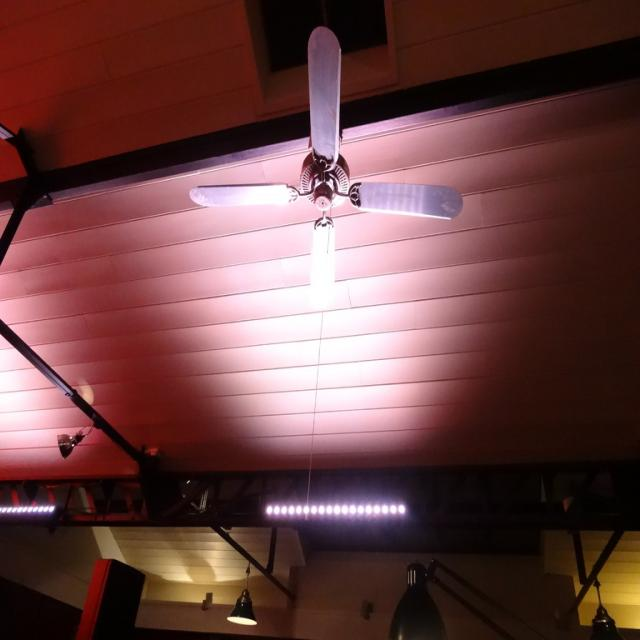Bulb: (189, 26, 464, 309)
